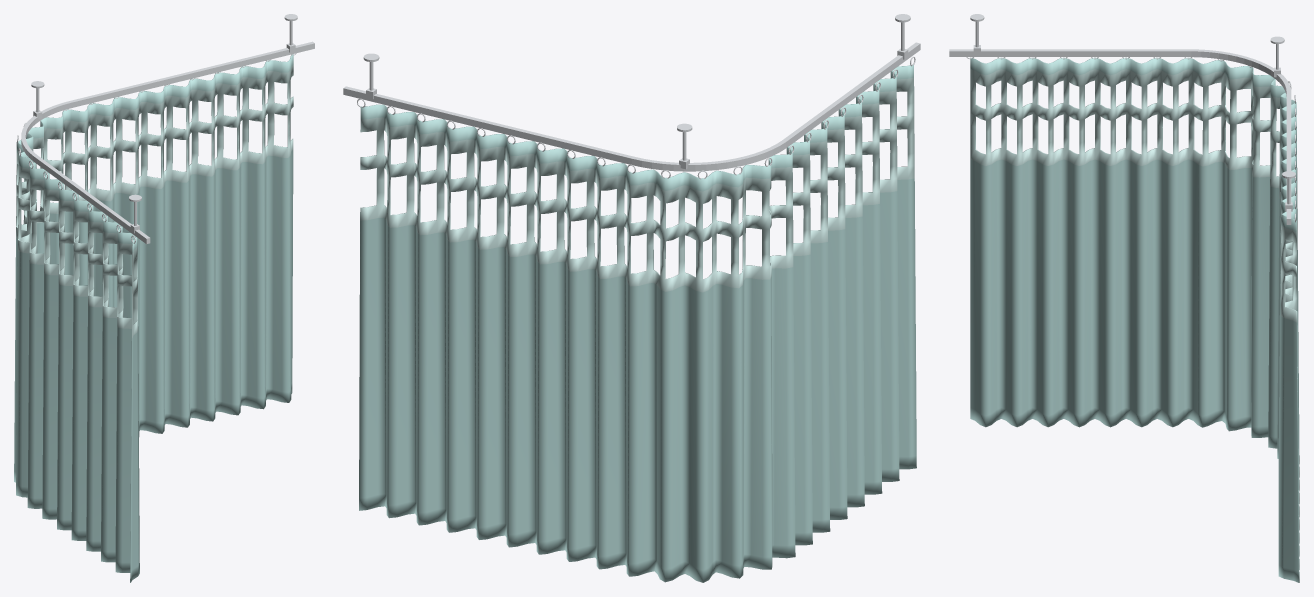
Rendered from Hospital_cutton_v1.fbx.
3 views of the same model, side by side, from view 1: azimuth 30°, elevation 25°; view 2: azimuth 150°, elevation 25°; view 3: azimuth 270°, elevation 25° (orthographic). The views are drawn at different scales.
Visible parts, largest first — view 1: 01_Curved_Intact_Curtain; view 2: 01_Curved_Intact_Curtain; view 3: 01_Curved_Intact_Curtain.
Boxes of the visible parts, <box> form: 01_Curved_Intact_Curtain: <box>14,14,314,582</box>; 01_Curved_Intact_Curtain: <box>343,14,920,582</box>; 01_Curved_Intact_Curtain: <box>949,14,1299,582</box>.
Bounding box in the file's own units: 205 × 224 × 175.
